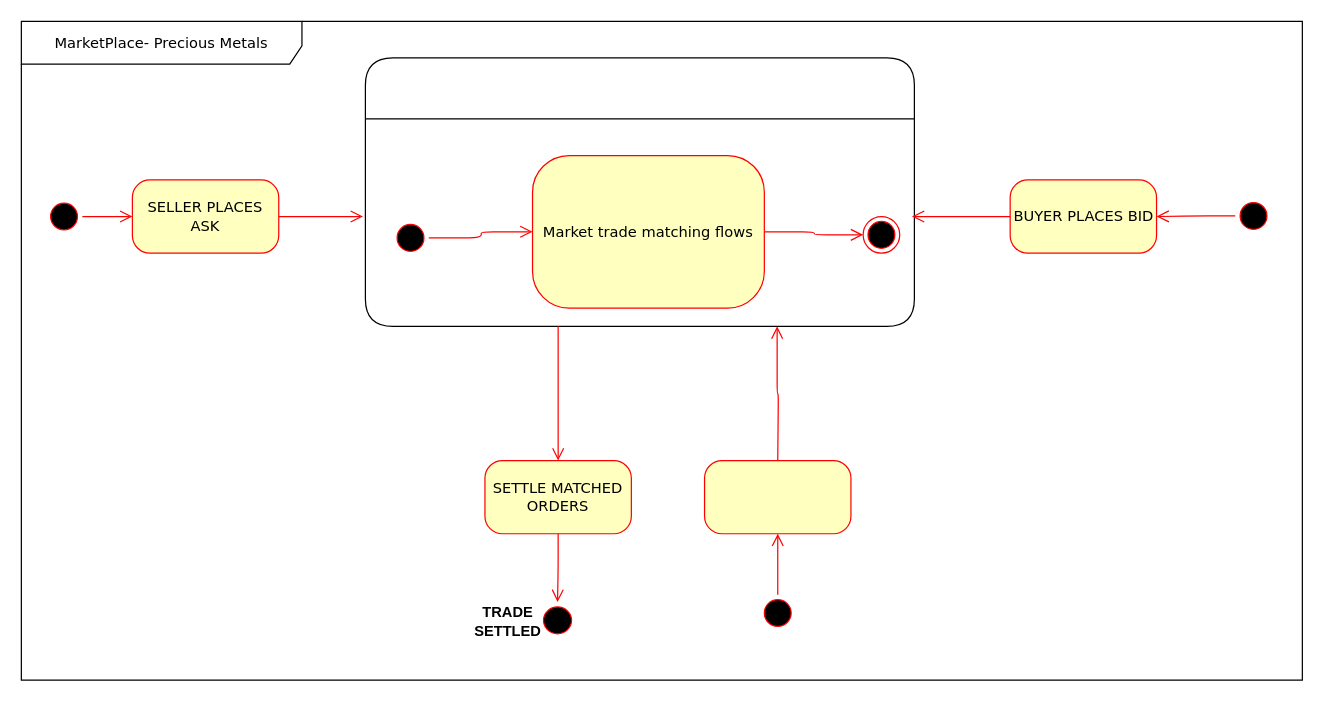
Image size: 1324x702. Some labels were removed from this diagram. Here are the shapes that lost their labels. From the top down, the box of each, then its label:
(364, 57, 914, 326): TRADES MATCHES BY THE MARKET (NOT IMPLEMENTED BY THIS SERVICE
(703, 459, 851, 534): CANCEL TRADE
